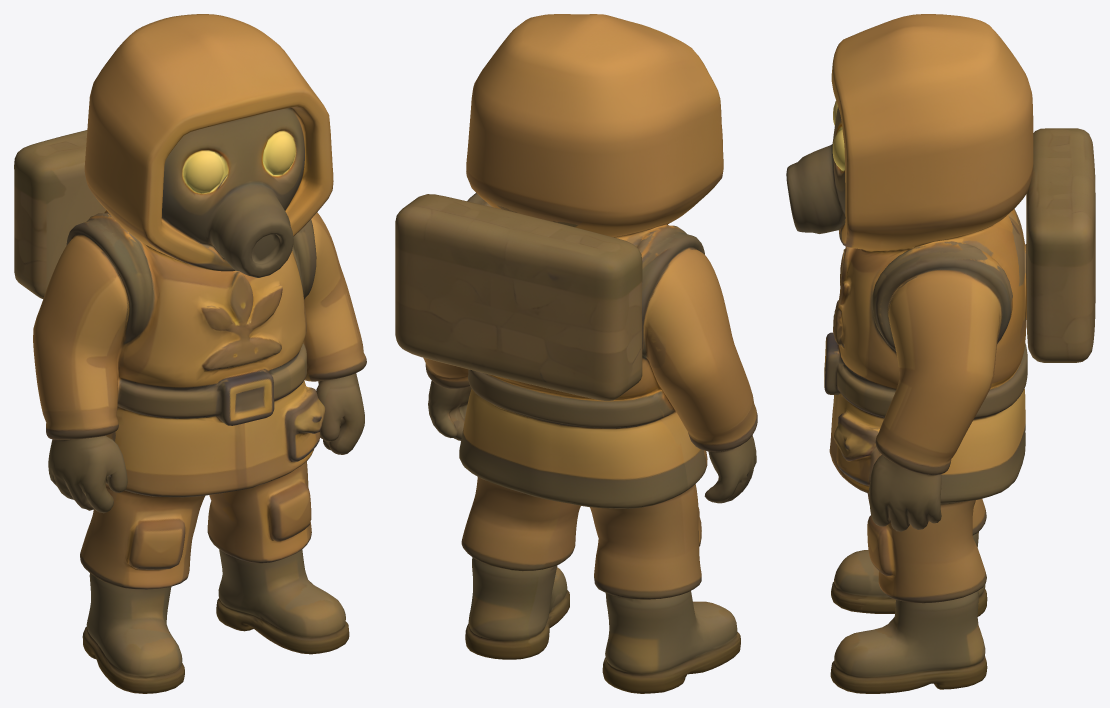
The model's file is QuintoPersonaje.fbx.
3 renders of one model, left to right at view 1: azimuth 30°, elevation 25°; view 2: azimuth 150°, elevation 25°; view 3: azimuth 270°, elevation 25°, orthographic. The views are drawn at different scales.
Visible parts, largest first — view 1: model_LOD0; view 2: model_LOD0; view 3: model_LOD0.
Part boxes in pixels (x1=…): model_LOD0: x1=14, y1=14, x2=366, y2=693; model_LOD0: x1=395, y1=14, x2=757, y2=693; model_LOD0: x1=786, y1=14, x2=1095, y2=693.
Bounding box in the file's own units: 93.99 × 177 × 80.51.
